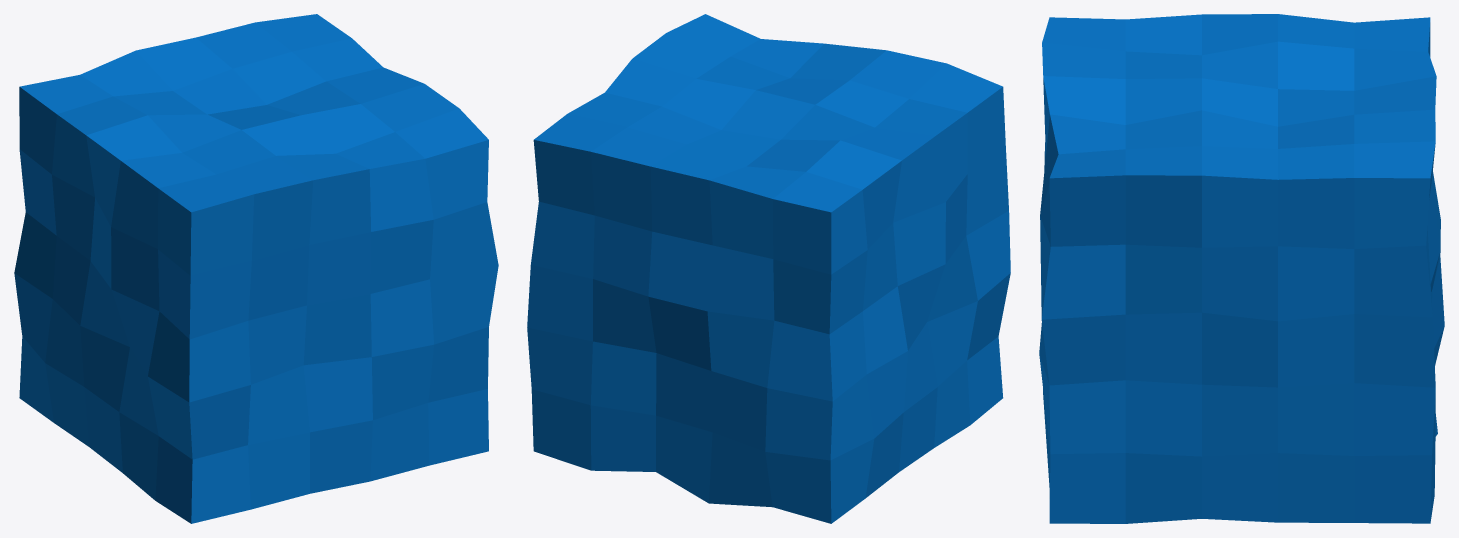
Rendered from water_cube.fbx.
The picture shows the model from 3 angles, left to right: view 1: azimuth 30°, elevation 25°; view 2: azimuth 150°, elevation 25°; view 3: azimuth 270°, elevation 25°; orthographic projection. The views are drawn at different scales.
Parts seen in each view (by area): view 1: Cube; view 2: Cube; view 3: Cube.
Boxes of the visible parts, x1,y1,x2,y2 form: Cube: (14,14,498,523); Cube: (527,14,1010,523); Cube: (1039,14,1444,523).
Size of the model in its own units: 214 by 210 by 213.
